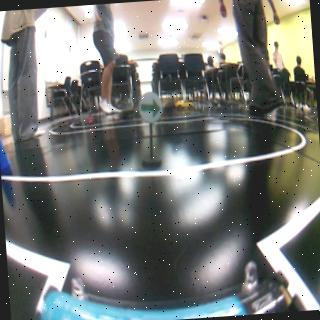right: (138, 94, 162, 118)
